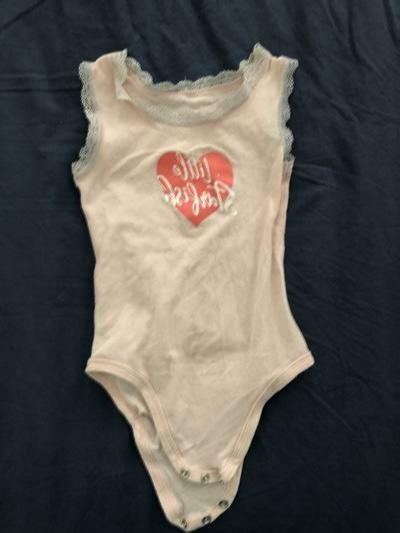Body: (52, 8, 355, 530)
